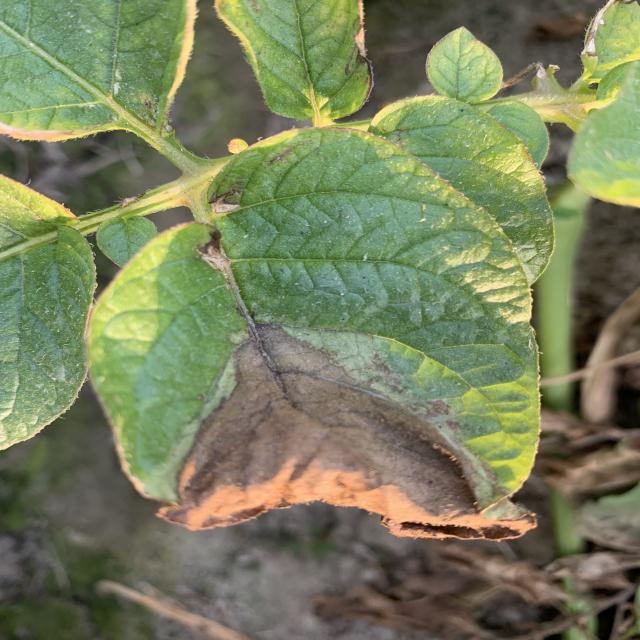lateblight: (160, 325, 535, 540)
